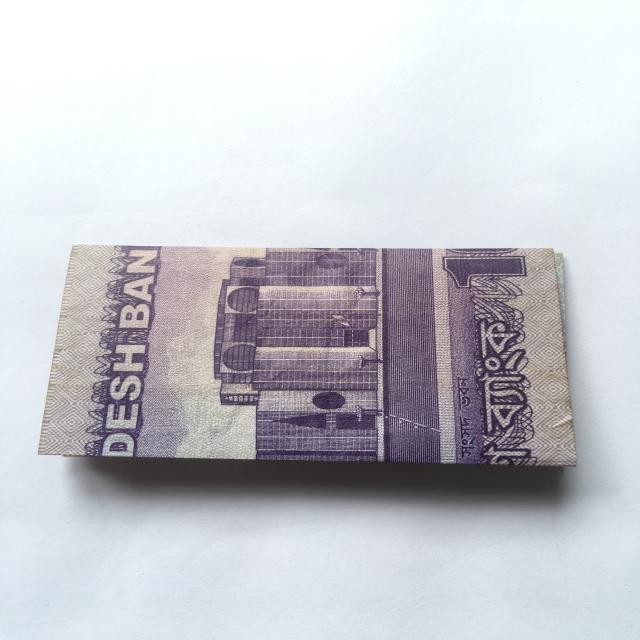Taka: (43, 231, 579, 480)
